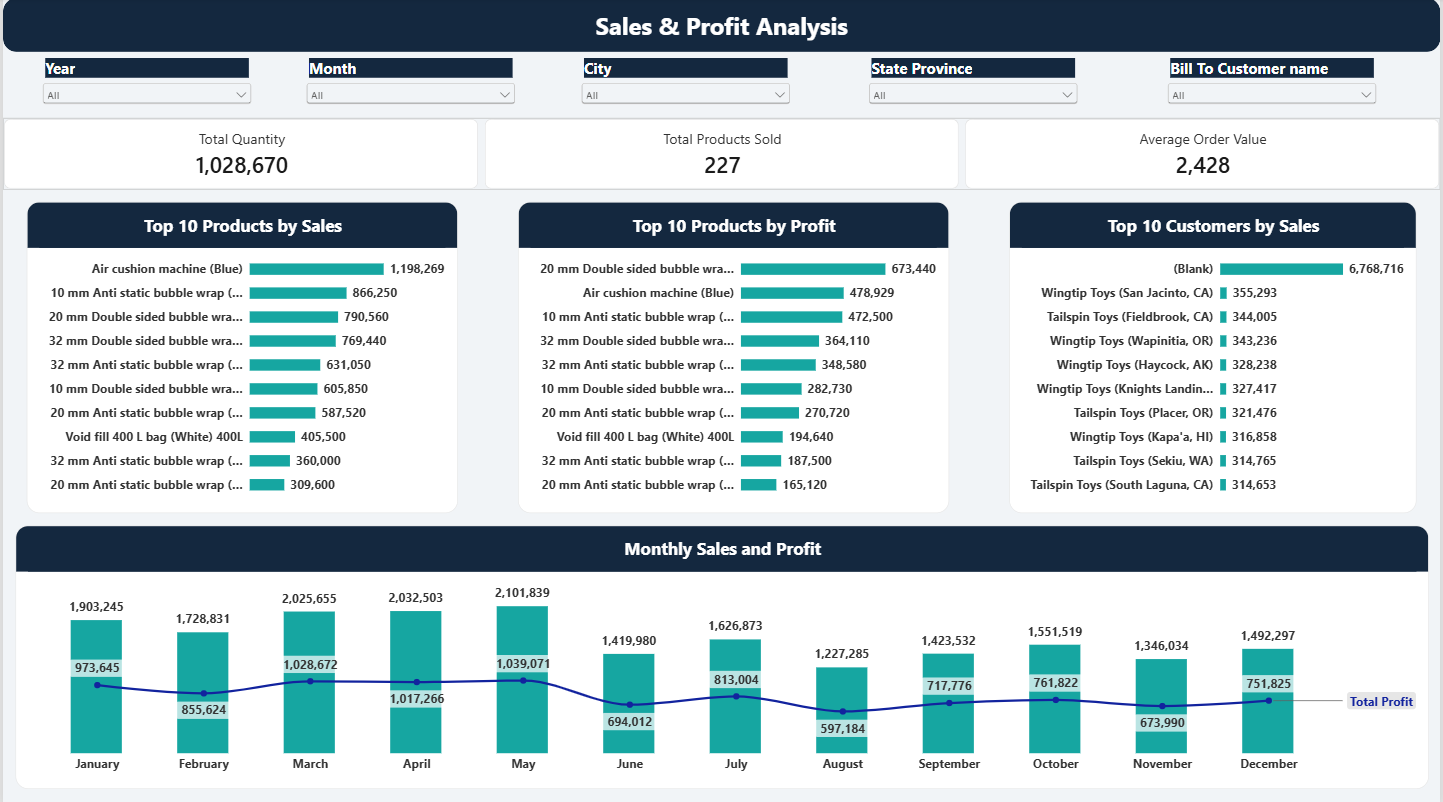

Layout of this report page (visuals, bound fields, positions):
{"tool":"powerbi","page":{"name":"Sales & Profit Analysis","canvas":[1920,1080],"ordinal":1},"visuals":[{"type":"cardVisual","fields":{"Data":["DAX.Total Quantity","DAX.Total Products Sold","DAX.Average Order Value"]},"box":[0,160,1920,96],"z":0},{"type":"barChart","title":"Top 10 Customers by Sales","fields":{"Category":["Dim-Customer.Customer1"],"Y":["DAX.Total Sales befor tax"]},"box":[1344,272,544,416],"z":1000},{"type":"barChart","title":"Top 10 Products by Sales","fields":{"Category":["Dim-StockItem.Stock Item"],"Y":["DAX.Total Sales befor tax"]},"box":[32,272,576,416],"z":2000},{"type":"shape","box":[0,0,1920,72],"z":3000},{"type":"lineStackedColumnComboChart","title":"Monthly Sales and Profit ","fields":{"Category":["Dim-Date.Date.Variation.Date Hierarchy.Month"],"Y":["DAX.Total Sales befor tax"],"Y2":["DAX.Total Profit"]},"box":[16,704,1888,352],"z":4000},{"type":"barChart","title":"Top 10 Products by Profit","fields":{"Category":["Dim-StockItem.Stock Item"],"Y":["DAX.Total Profit"]},"box":[688,272,576,416],"z":5000},{"type":"slicer","fields":{"Values":["Dim-Date.Date.Variation.Date Hierarchy.Year"]},"box":[48,80,288,64],"z":6000},{"type":"slicer","fields":{"Values":["Dim-Date.Date.Variation.Date Hierarchy.Month"]},"box":[400,80,288,64],"z":7000},{"type":"slicer","fields":{"Values":["Dim-City.City"]},"box":[768,80,288,64],"z":8000},{"type":"slicer","fields":{"Values":["Dim-City.State Province"]},"box":[1152,80,288,64],"z":9000},{"type":"slicer","fields":{"Values":["Dim-Customer.Bill To Customer name"]},"box":[1552,80,288,64],"z":10000}]}

Visuals, with their boxes in screenshot pixels (x1, y1, x2, y2), scaled from the page's 1920x1080 canvas onto the 1443x802 screenshot:
cardVisual - DAX.Total Quantity x DAX.Total Products Sold: 0/119/1442/190
"Top 10 Customers by Sales" barChart: 1010/202/1419/511
"Top 10 Products by Sales" barChart: 24/202/457/511
shape: 0/0/1442/53
"Monthly Sales and Profit " lineStackedColumnComboChart: 12/523/1431/784
"Top 10 Products by Profit" barChart: 517/202/950/511
slicer - Dim-Date.Date.Variation.Date Hierarchy.Year: 36/59/253/107
slicer - Dim-Date.Date.Variation.Date Hierarchy.Month: 301/59/517/107
slicer - Dim-City.City: 577/59/794/107
slicer - Dim-City.State Province: 866/59/1082/107
slicer - Dim-Customer.Bill To Customer name: 1166/59/1383/107
